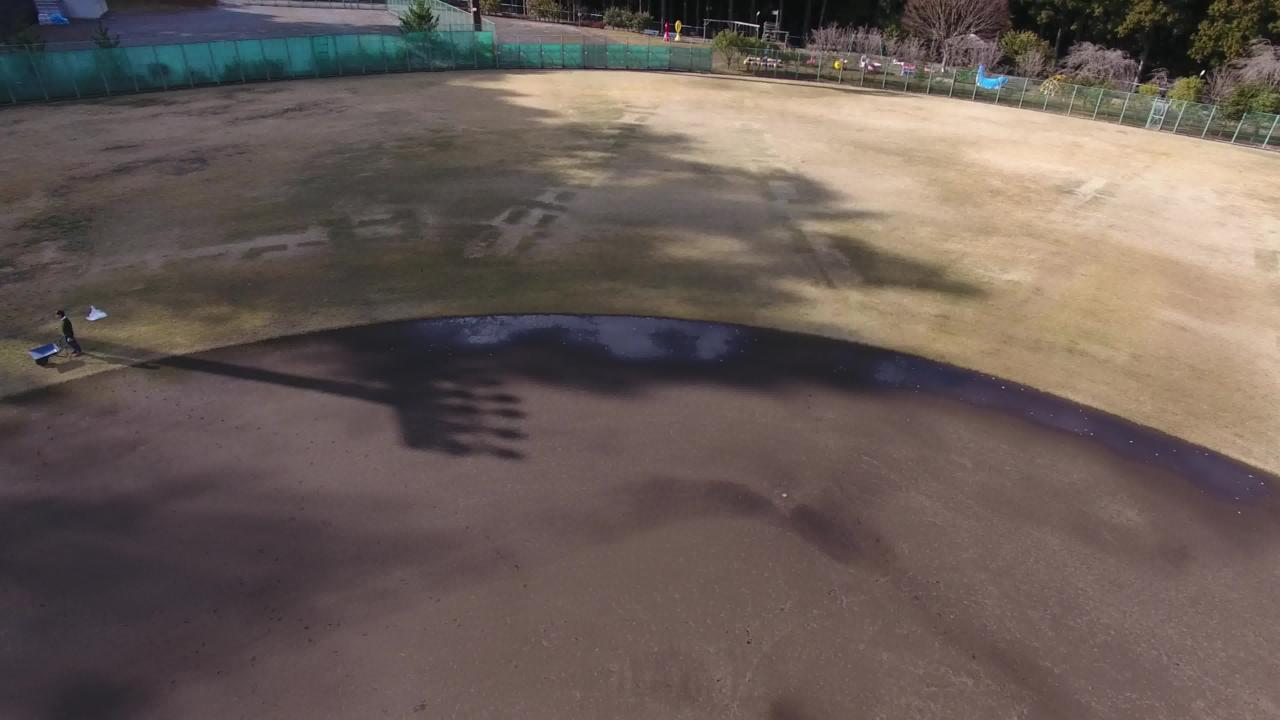person: (57, 300, 83, 354)
trolley: (31, 340, 53, 369)
